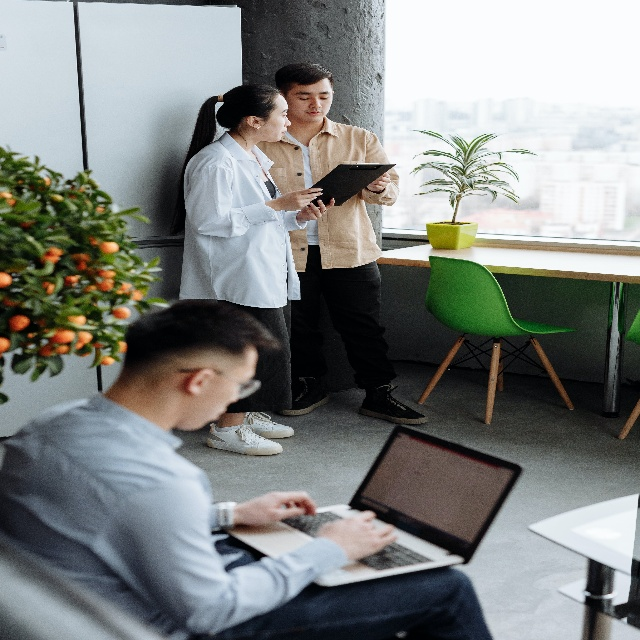Gafas: (175, 364, 261, 400)
Sin_guantes: (319, 504, 398, 563), (237, 489, 315, 528), (279, 187, 323, 211), (299, 197, 336, 220), (367, 169, 391, 194)
